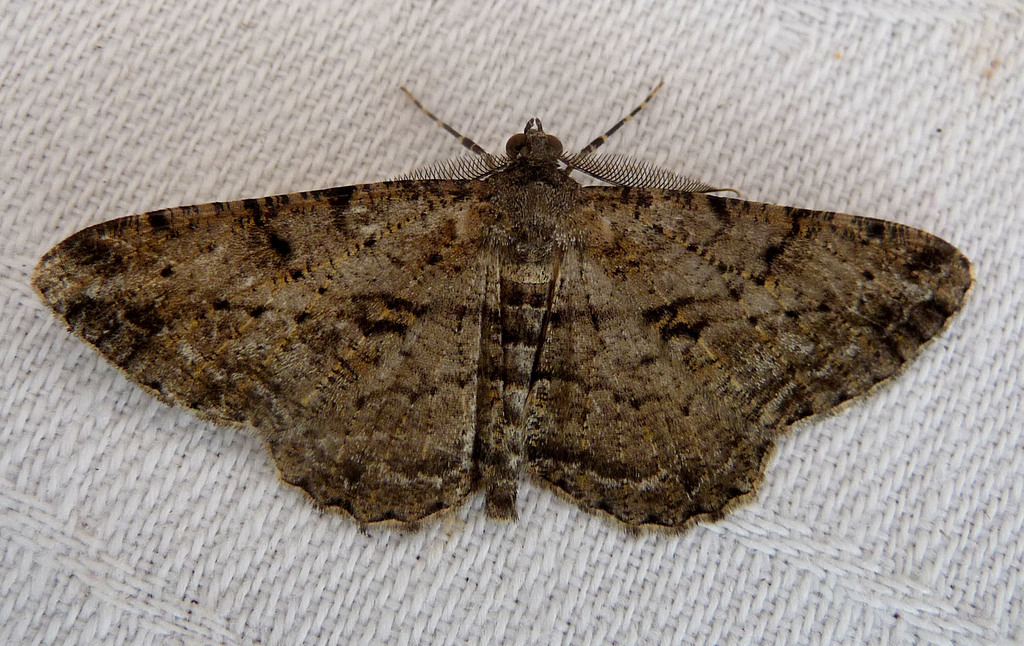Butterfly: (30, 129, 988, 546)
